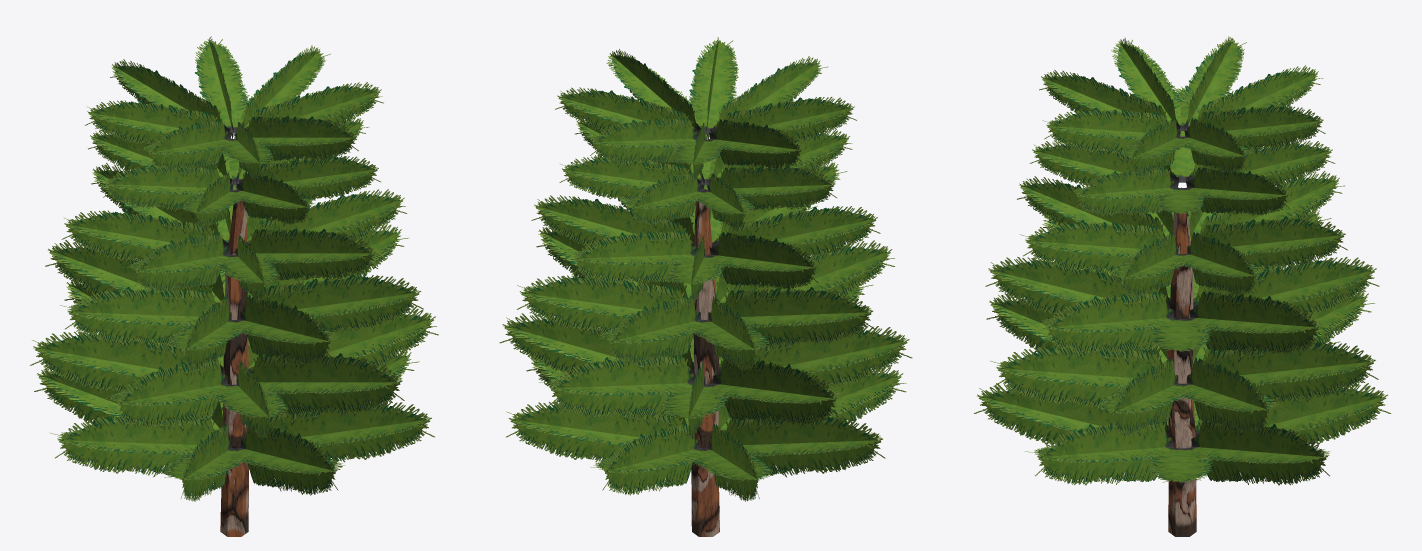
The model's file is mod_natural_pineTree.fbx.
3 views of the same model, side by side, from view 1: azimuth 30°, elevation 25°; view 2: azimuth 150°, elevation 25°; view 3: azimuth 270°, elevation 25° (orthographic).
Parts seen in each view (by area): view 1: tree_LOD0; view 2: tree_LOD0; view 3: tree_LOD0.
Part boxes in pixels (x1,y1,x2,y2): tree_LOD0: (30,36,438,536); tree_LOD0: (499,37,912,536); tree_LOD0: (974,36,1390,536).
Size of what is drawn, in the model's own units: 3166 by 3552 by 3166.
